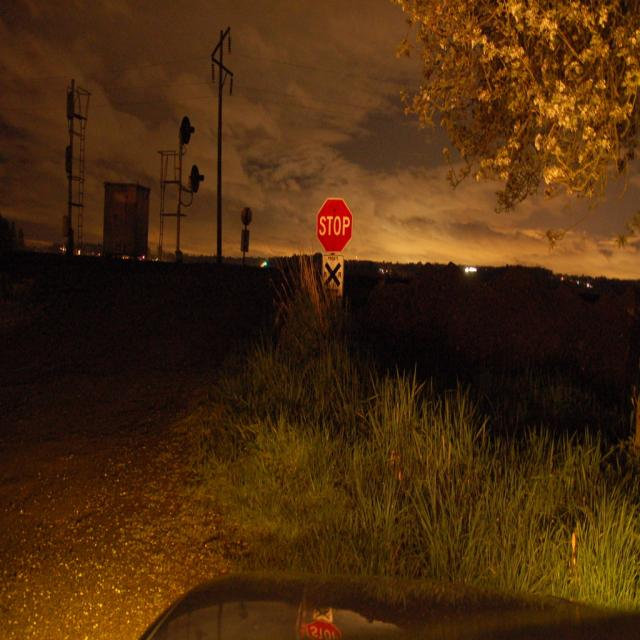Stop-sign: (316, 196, 352, 252)
